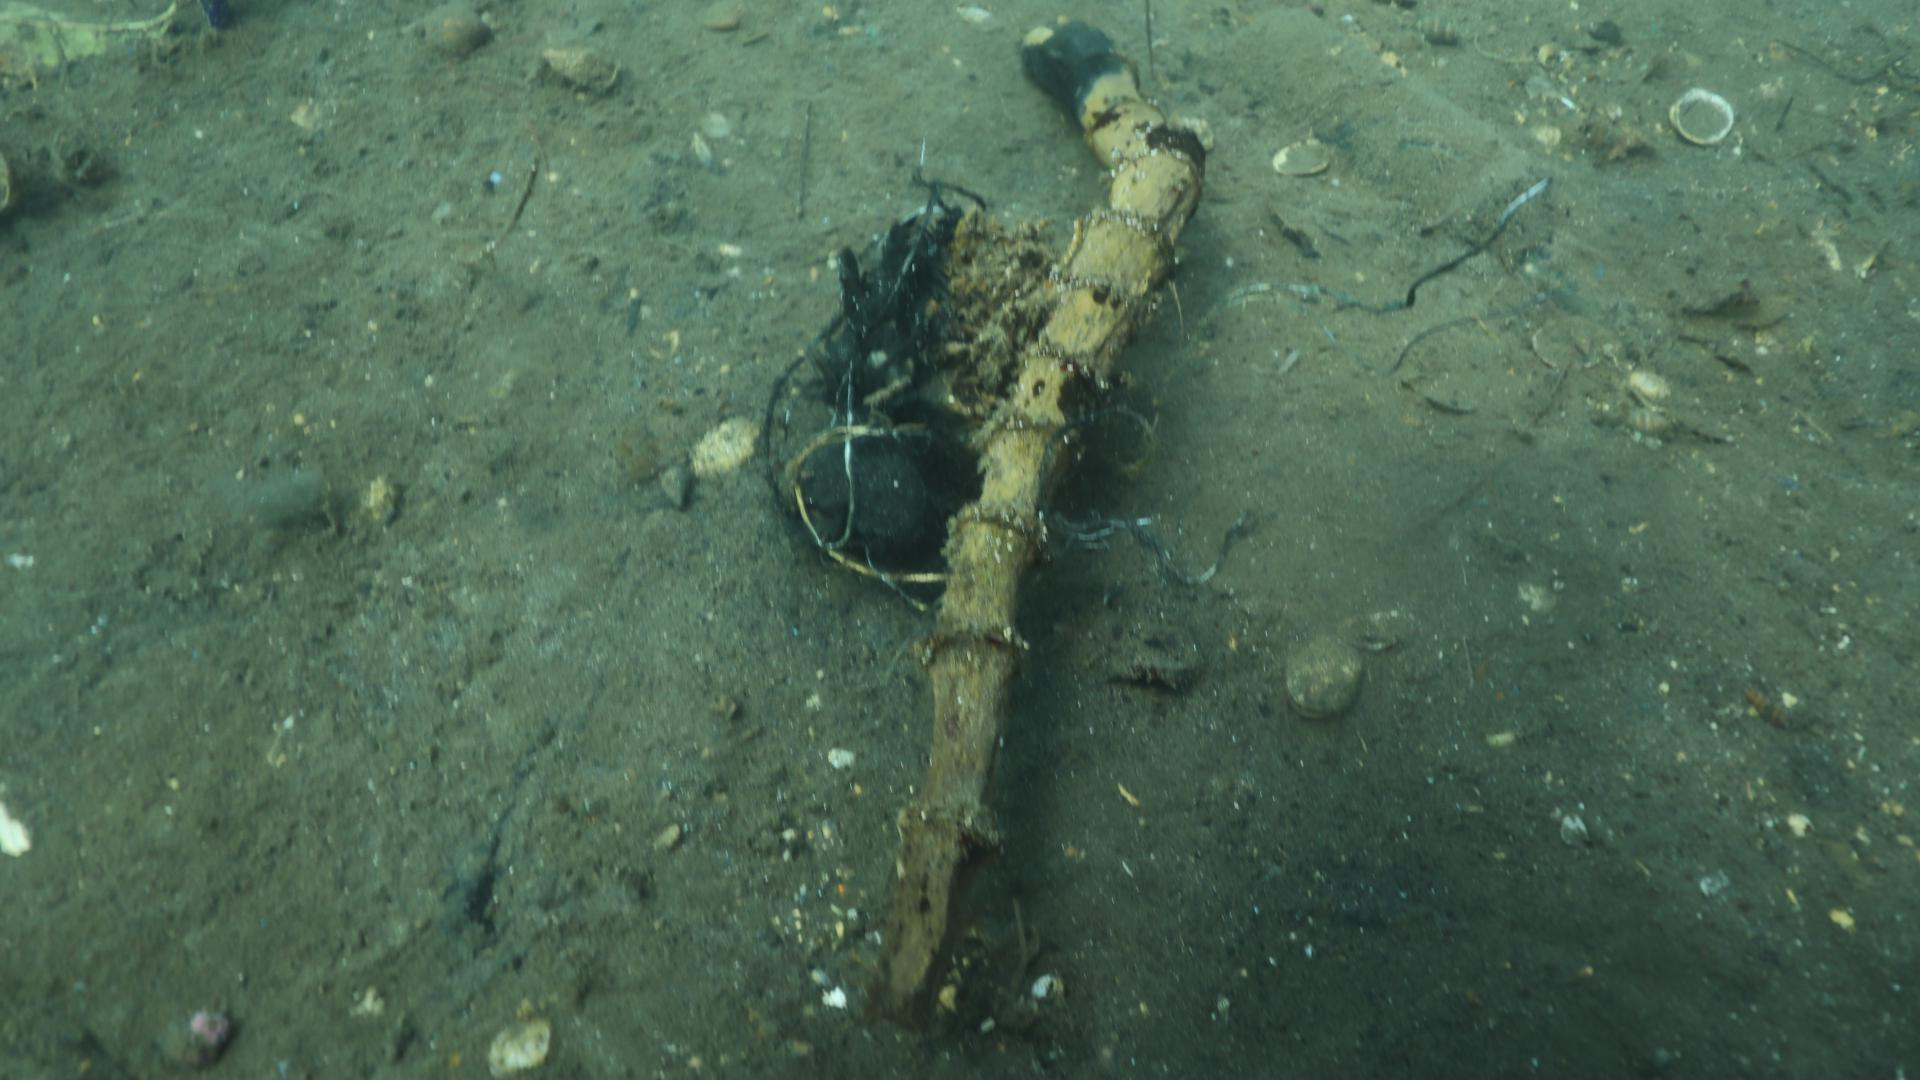wood: (862, 12, 1216, 1035)
